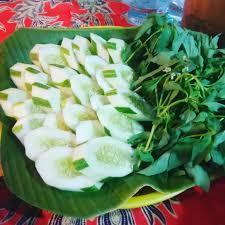buah_sayur_lainnya: (42, 49, 205, 171)
